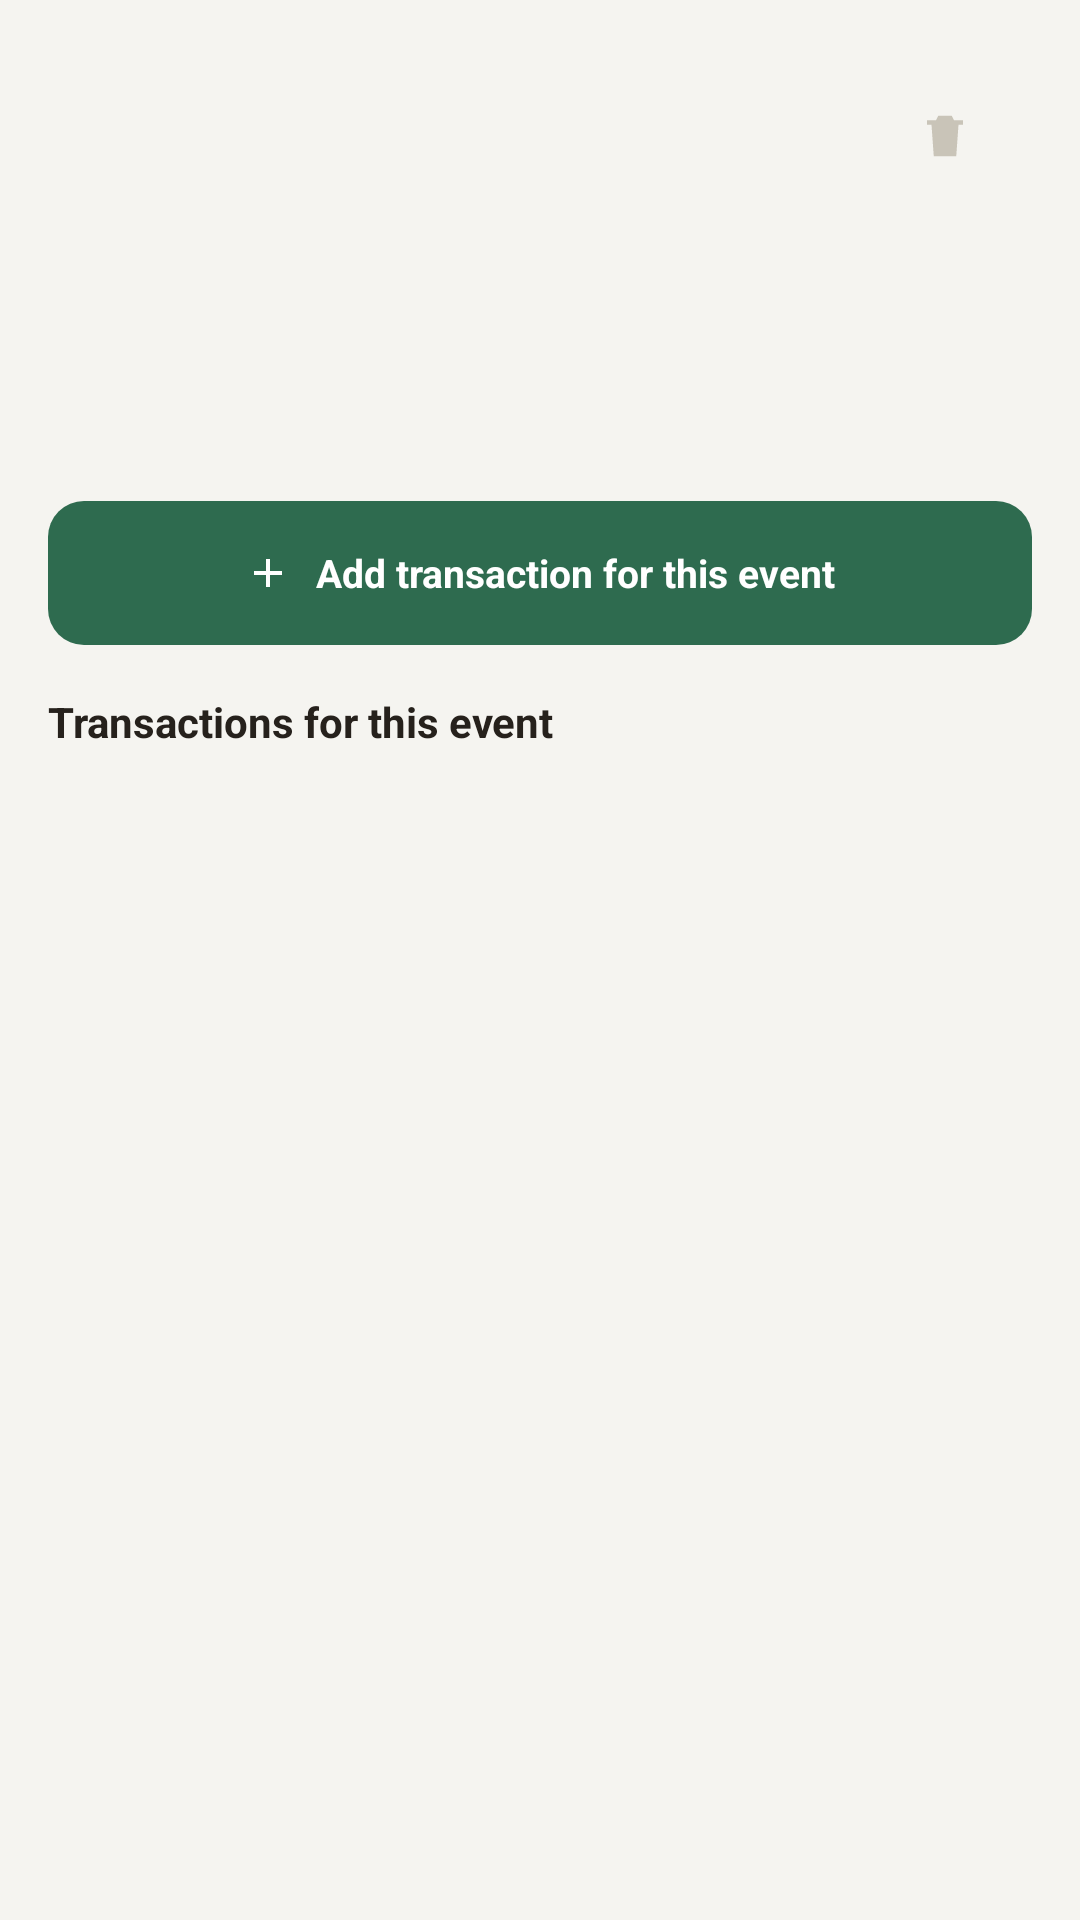

Icons on this 1080x1920 Android screen, each with the point to tap as [x,y]:
Delete event: [945,136]
